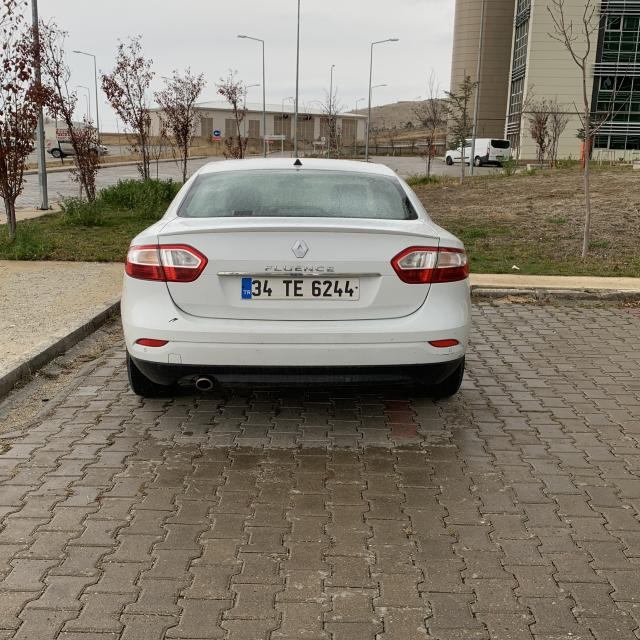license_plate: (241, 278, 360, 300)
